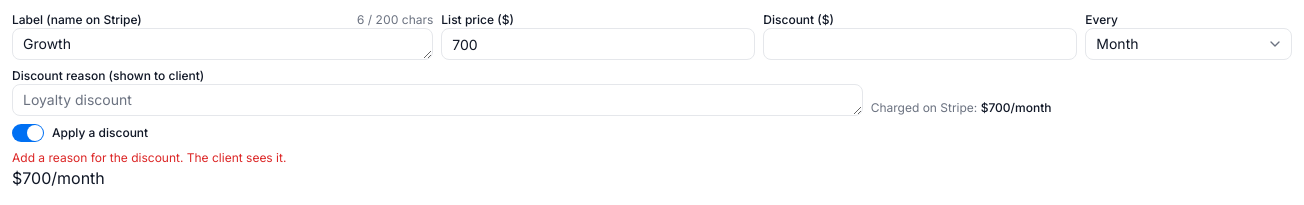
Test: MoneyFields keeps the cadence on discounted recurring lines (RSL-34) › a discounted recurring net carries /month in the stored displayString
The width and height of the screenshot is (1304, 205).
In the number field labelled "Discount ($)": (920, 44) top-left (763, 28), bottom-right (1077, 60), type "100"
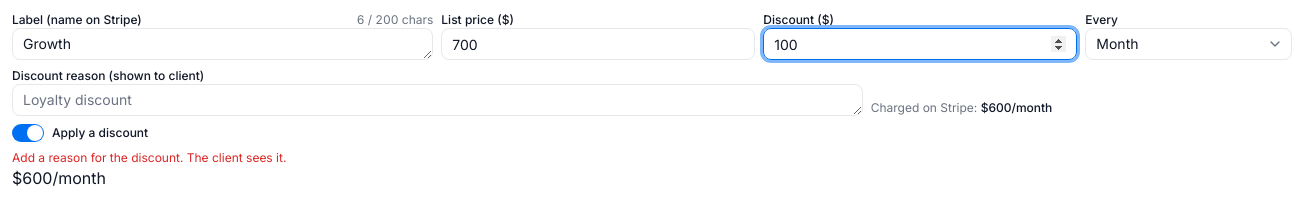
Now the text with test id "stored" reads "$600/month", box top-left (12, 168), bottom-right (106, 188)
